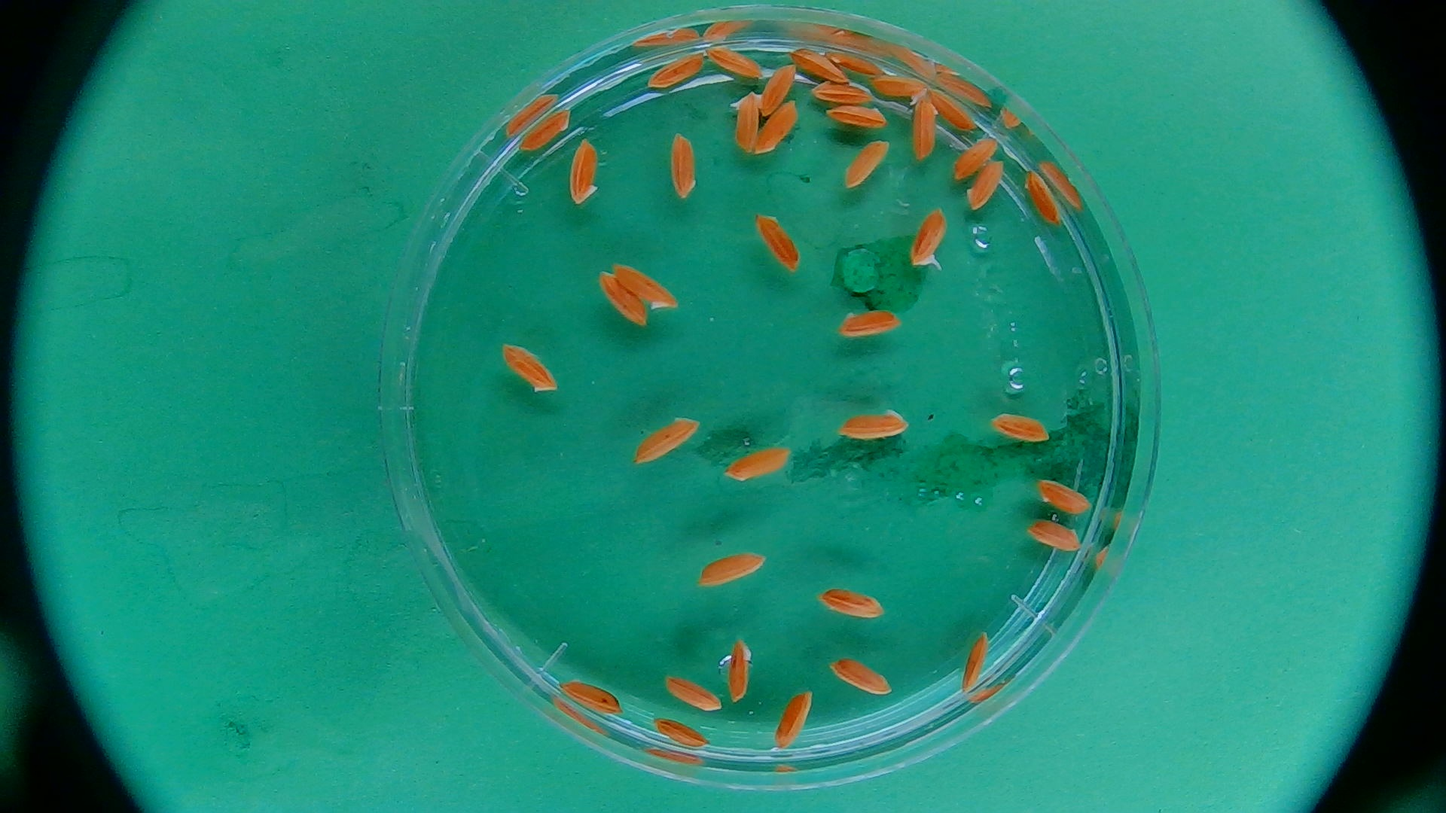no: (712, 437, 798, 484), (560, 671, 629, 728), (510, 101, 574, 159), (498, 340, 559, 399), (614, 258, 684, 309), (752, 208, 802, 279), (596, 269, 651, 332), (927, 73, 981, 136), (635, 415, 700, 467), (978, 410, 1063, 449), (827, 653, 898, 699), (568, 132, 607, 212), (706, 38, 767, 88), (834, 306, 908, 347), (697, 549, 768, 591), (840, 406, 916, 445), (1020, 166, 1068, 227), (775, 688, 818, 755), (657, 708, 709, 763), (957, 630, 998, 698), (844, 134, 891, 193), (819, 582, 886, 623), (664, 132, 702, 200), (650, 51, 707, 95), (727, 87, 762, 157), (813, 74, 880, 110), (721, 638, 759, 701), (661, 678, 724, 716), (1036, 477, 1094, 518), (963, 160, 1011, 209), (795, 50, 853, 89), (1024, 520, 1081, 558), (825, 103, 891, 134), (763, 103, 798, 159), (762, 58, 793, 120), (958, 138, 1000, 181)
yes: (870, 65, 933, 106), (907, 209, 948, 269)
